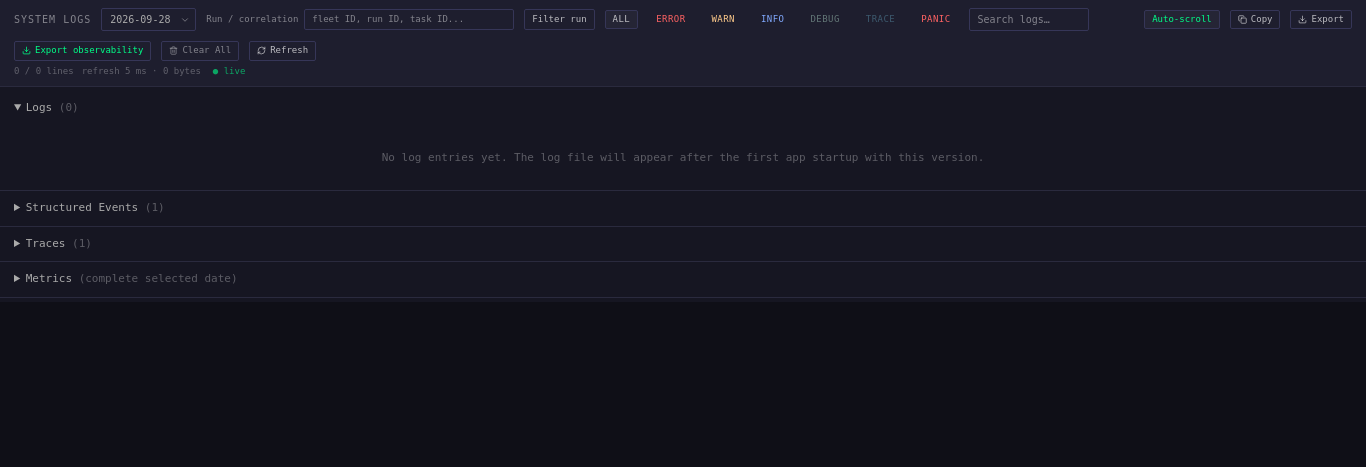
Logs tab › renders span ancestry as a nested trace tree with operation duration
The width and height of the screenshot is (1366, 467).
Click the heading "Traces (1)" at (59, 243), box [26,236,92,250]
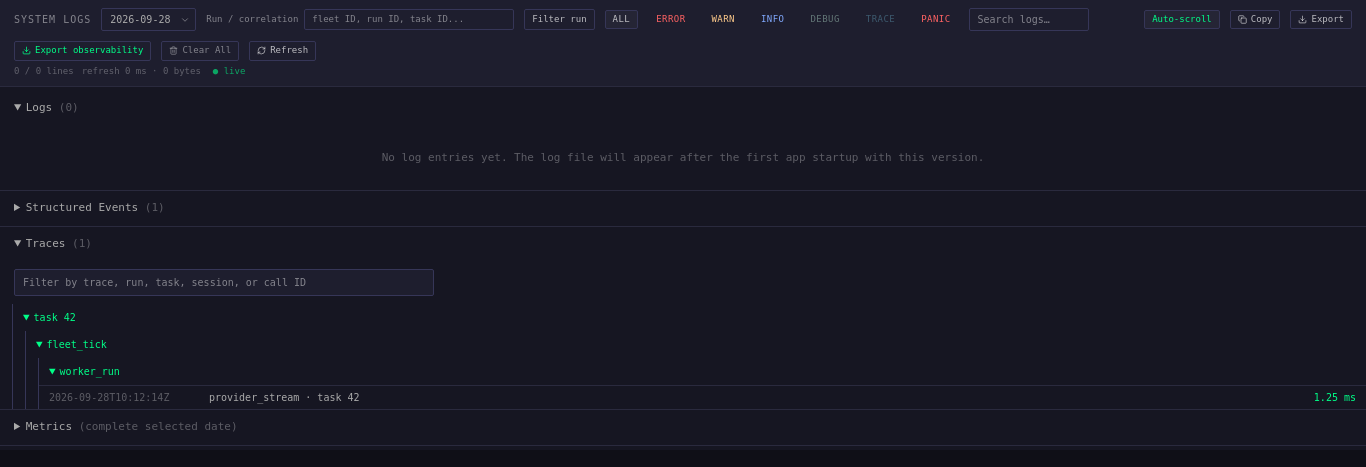
Expected: the text "fleet_tick" shows "provider_stream · task 42", [25,331,1365,409]
Expected: the text "fleet_tick" shows "1.25 ms", [1314,392,1356,403]
